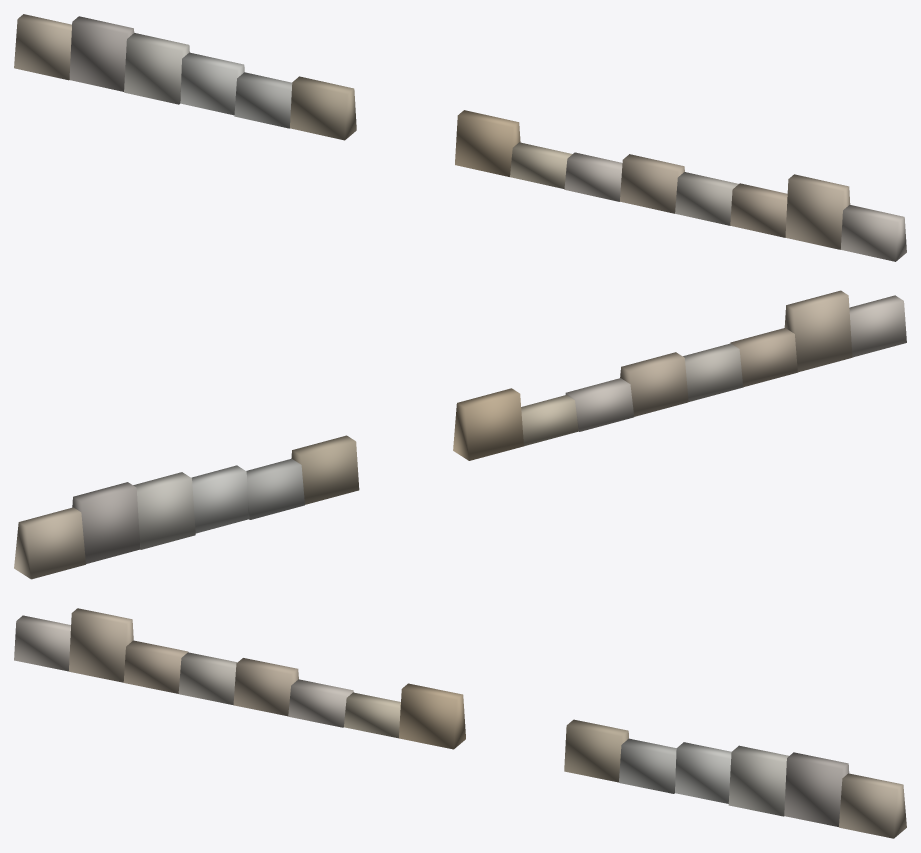
Rendered from farm_11_0_collision.glb.
3 renders of one model, top to bottom at view 1: azimuth 90°, elevation 25°; view 2: azimuth 150°, elevation 25°; view 3: azimuth 270°, elevation 25°, orthographic. The views are drawn at different scales.
Visible parts, largest first — view 1: geometry_0; view 2: geometry_0; view 3: geometry_0.
Boxes of the visible parts, x1,y1,x2,y2 form: geometry_0: (14,14,906,261); geometry_0: (14,290,906,579); geometry_0: (14,608,906,838).
Size of the model in its own units: 11.59 by 1.76 by 22.29.
